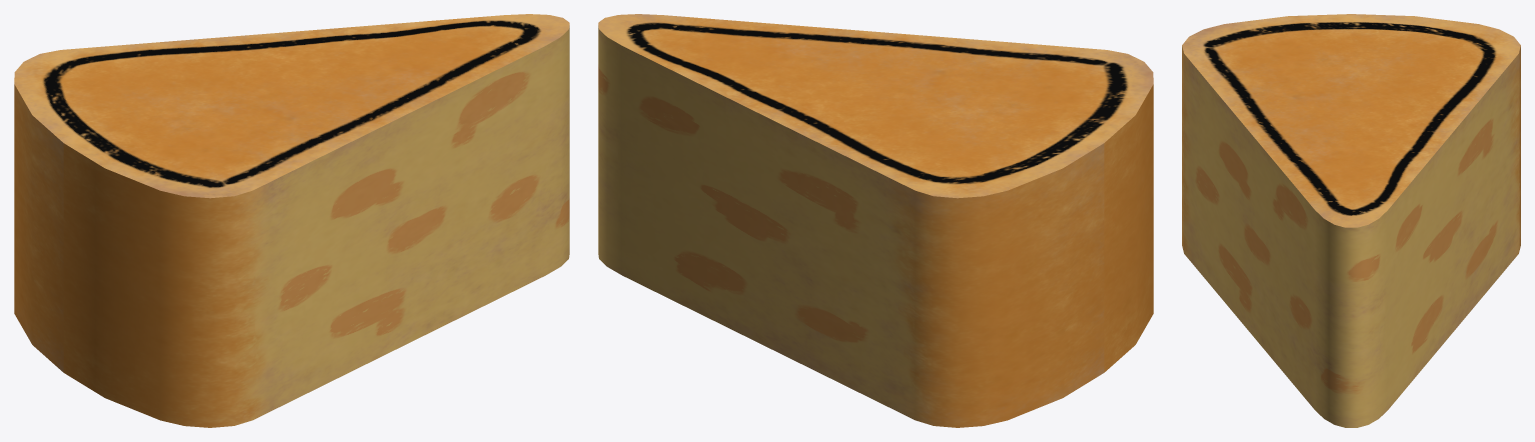
The model's file is cheese.fbx.
The picture shows the model from 3 angles, left to right: view 1: azimuth 30°, elevation 25°; view 2: azimuth 150°, elevation 25°; view 3: azimuth 270°, elevation 25°; orthographic projection. The views are drawn at different scales.
Visible parts, largest first — view 1: Cheese; view 2: Cheese; view 3: Cheese.
Boxes of the visible parts, x1=… form: Cheese: x1=14, y1=14, x2=569, y2=427; Cheese: x1=598, y1=14, x2=1153, y2=427; Cheese: x1=1182, y1=14, x2=1520, y2=427.
Bounding box in the file's own units: 46.11 × 20.13 × 30.89.
